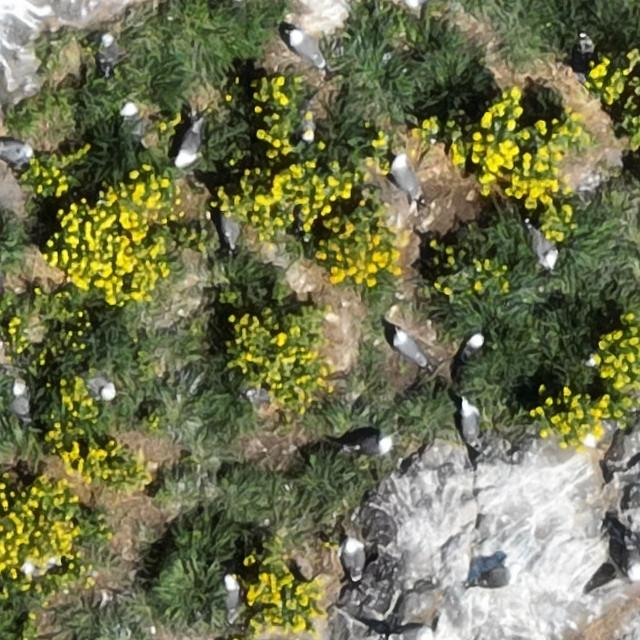umineko: (289, 32, 323, 66), (474, 564, 520, 588), (530, 224, 556, 266), (179, 122, 203, 165), (394, 157, 419, 197), (395, 332, 425, 365), (223, 206, 244, 249), (18, 561, 61, 581), (11, 383, 31, 422), (354, 436, 391, 456), (342, 540, 362, 576), (461, 402, 479, 439), (1, 140, 32, 160), (99, 34, 116, 68), (120, 101, 142, 127), (225, 577, 240, 615), (92, 377, 116, 400), (393, 626, 429, 640), (464, 332, 484, 357)
